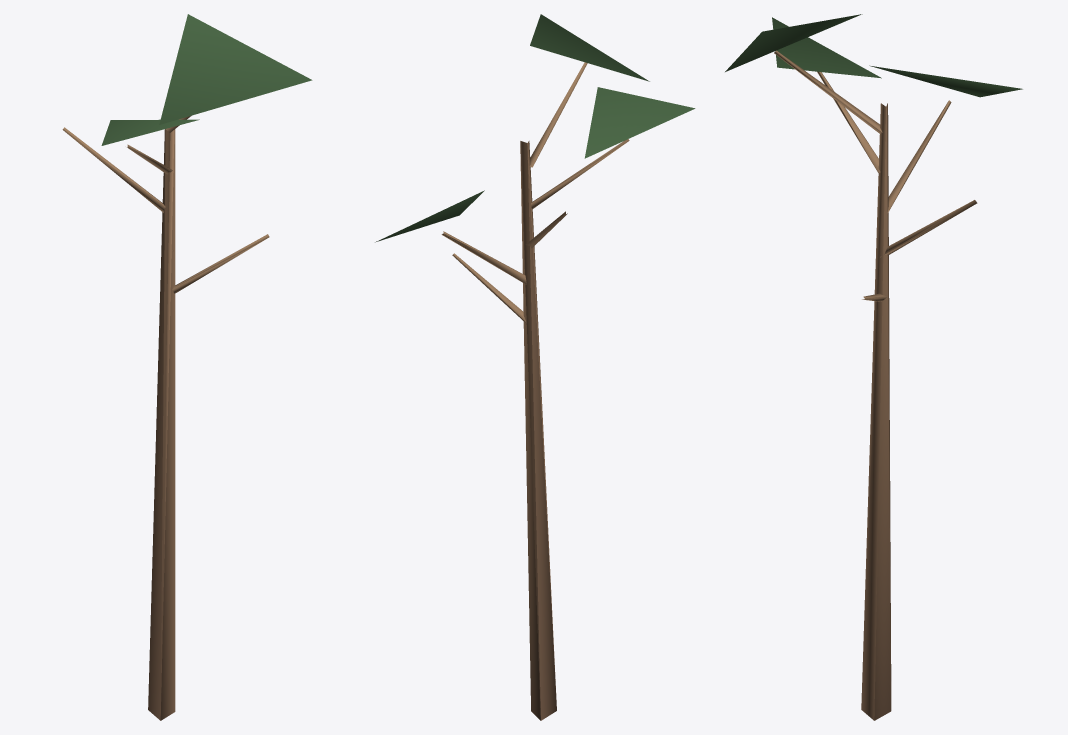
The model's file is pin_lod1.glb.
The picture shows the model from 3 angles, left to right: view 1: azimuth 30°, elevation 25°; view 2: azimuth 150°, elevation 25°; view 3: azimuth 270°, elevation 25°; orthographic projection. The views are drawn at different scales.
Visible parts, largest first — view 1: pin_lod1; view 2: pin_lod1; view 3: pin_lod1.
Part boxes in pixels (<box>): pin_lod1: <box>62,14,312,720</box>; pin_lod1: <box>375,14,695,720</box>; pin_lod1: <box>725,14,1022,720</box>.
Size of the model in its own units: 6.86 by 17.42 by 7.31.
